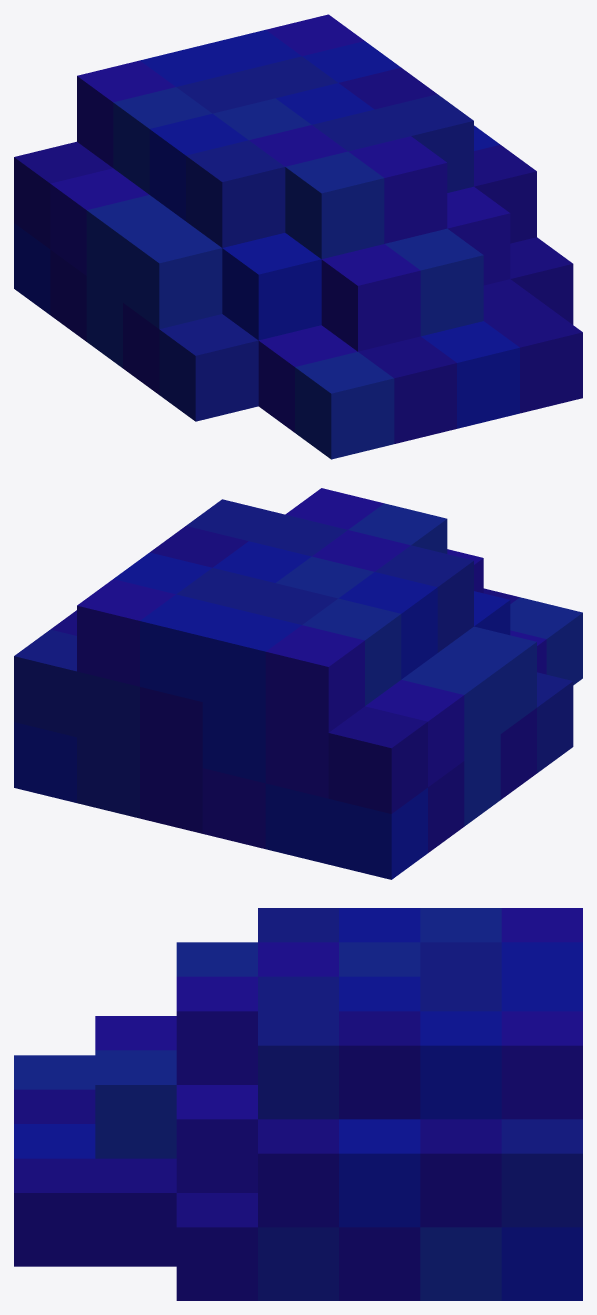
The model's file is FurroFootL.fbx.
The picture shows the model from 3 angles, top to bottom: view 1: azimuth 30°, elevation 25°; view 2: azimuth 150°, elevation 25°; view 3: azimuth 270°, elevation 25°; orthographic projection. The views are drawn at different scales.
Parts seen in each view (by area): view 1: FurroFootL; view 2: FurroFootL; view 3: FurroFootL.
Part boxes in pixels (x1=…): FurroFootL: x1=14, y1=14, x2=582, y2=459; FurroFootL: x1=14, y1=488, x2=582, y2=879; FurroFootL: x1=14, y1=908, x2=582, y2=1300.
Bounding box in the file's own units: 60 × 30 × 70.
